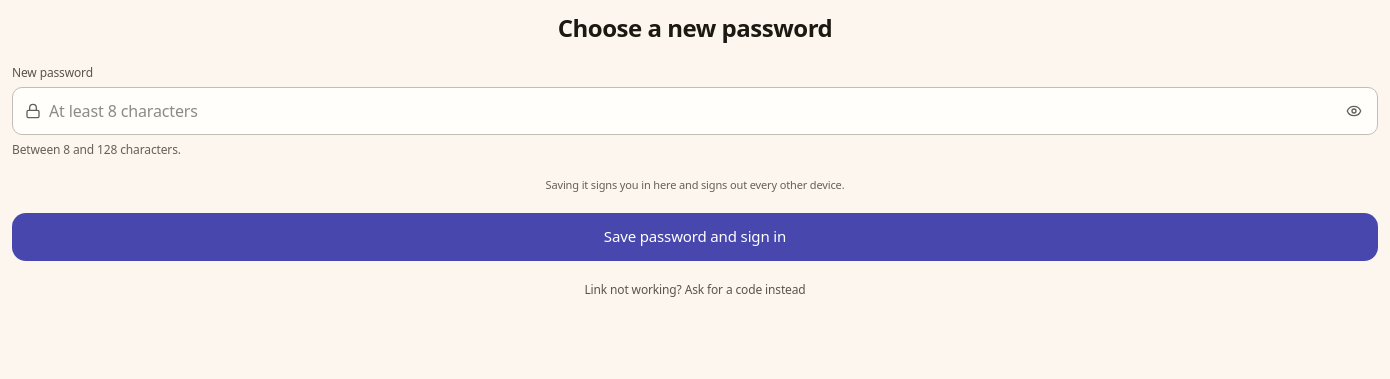
Test: ResetLinkView › counts down a 429 with Save disabled
Type "LedgerFlow!2027" into the password field labelled "New password" at (707, 111), box top-left (49, 100), bottom-right (1365, 123)
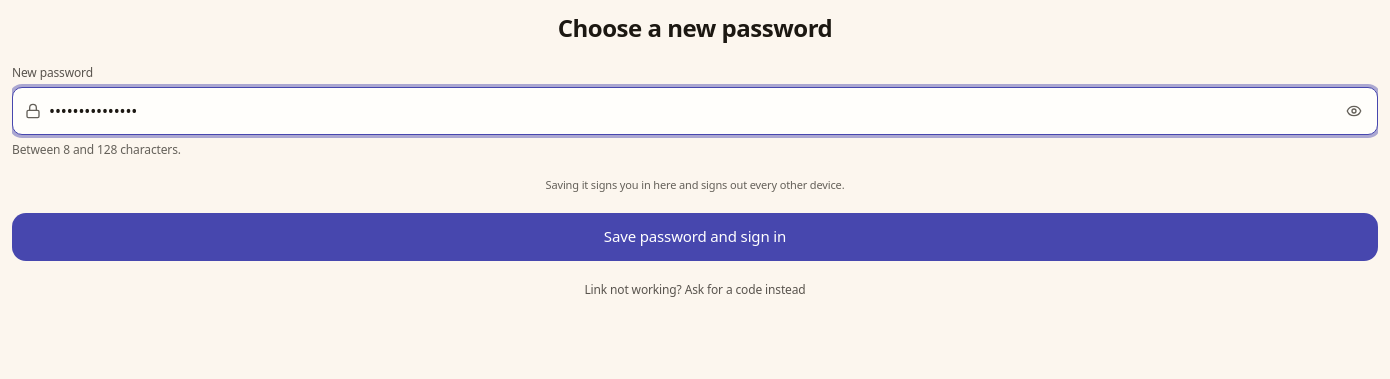
Click the button named "Save password and sign in" at (695, 237), box top-left (12, 213), bottom-right (1378, 261)
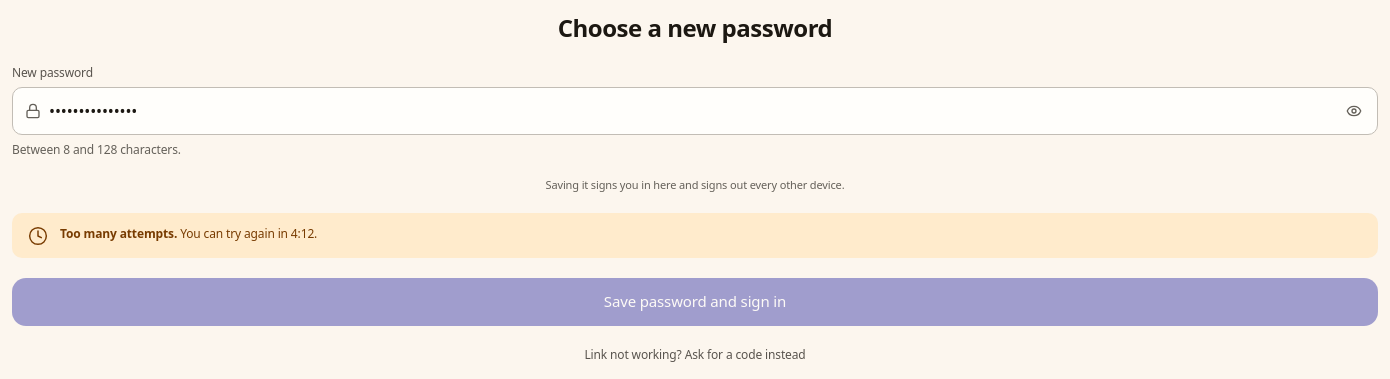
expect the text "Too many attempts. You can try again in 4:12." is shown: met, box top-left (60, 225), bottom-right (317, 242)
expect the button named "Save password and sign in" is disabled: met, box top-left (12, 278), bottom-right (1378, 326)
